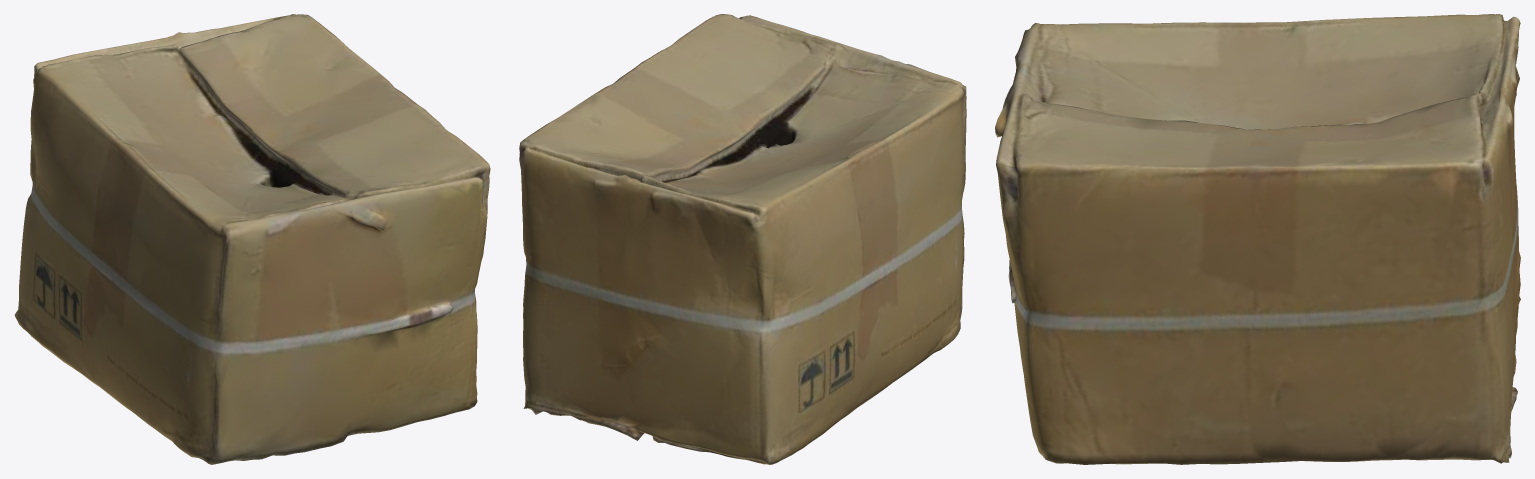
Rendered from cardboard_box_01.glb.
3 renders of one model, left to right at view 1: azimuth 30°, elevation 25°; view 2: azimuth 150°, elevation 25°; view 3: azimuth 270°, elevation 25°, orthographic. The views are drawn at different scales.
Parts seen in each view (by area): view 1: cardboard_box_01; view 2: cardboard_box_01; view 3: cardboard_box_01.
Part boxes in pixels (x1,y1,x2,y2): cardboard_box_01: [14, 14, 490, 464]; cardboard_box_01: [519, 14, 966, 464]; cardboard_box_01: [995, 14, 1520, 464].
Bounding box in the file's own units: 0.387 × 0.3418 × 0.5159.
Materials: 1 (1 with a texture image).
